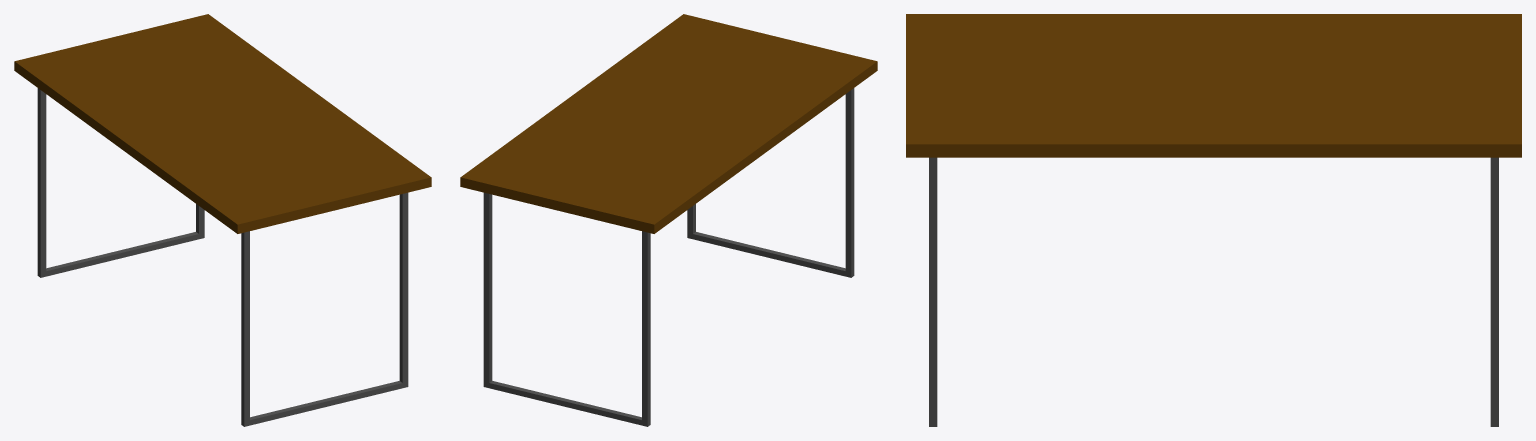
The model's file is Table.obj.
3 views of the same model, side by side, from view 1: azimuth 30°, elevation 25°; view 2: azimuth 150°, elevation 25°; view 3: azimuth 270°, elevation 25° (orthographic). The views are drawn at different scales.
Visible parts, largest first — view 1: Table; view 2: Table; view 3: Table.
Part boxes in pixels (bbox=[...]): Table: bbox=[14, 14, 431, 426]; Table: bbox=[460, 14, 877, 426]; Table: bbox=[906, 14, 1521, 426].
Size of the model in its own units: 104 by 109 by 208.
